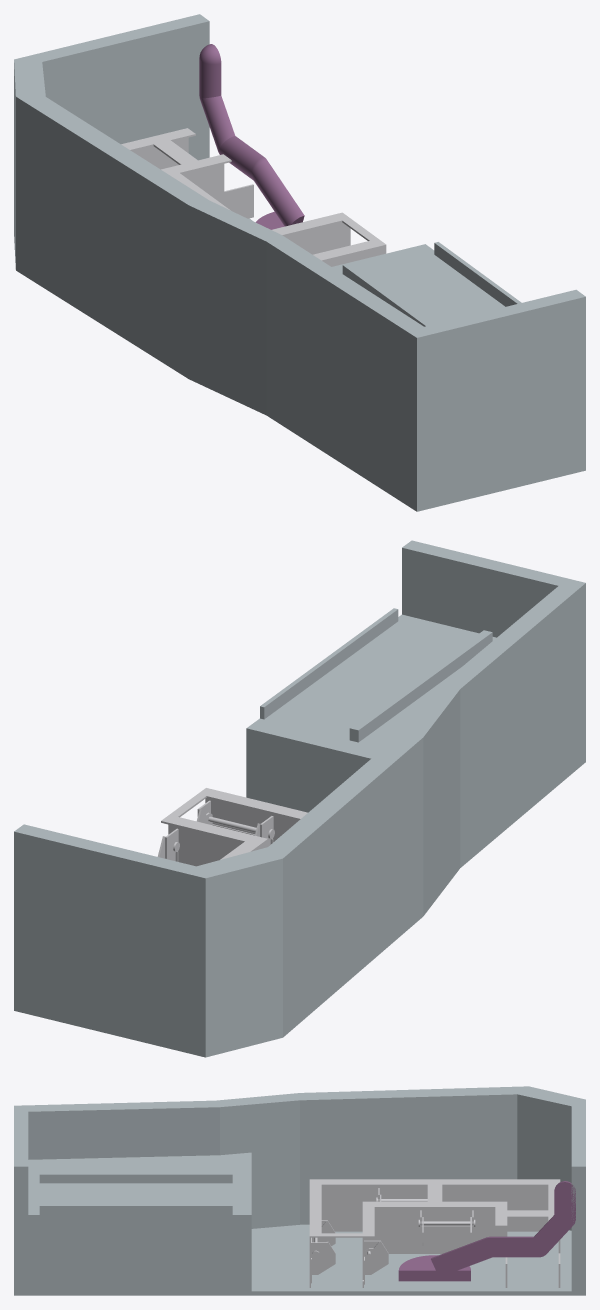
The model's file is nested_pan_section.glb.
3 renders of one model, top to bottom at view 1: azimuth 30°, elevation 25°; view 2: azimuth 150°, elevation 25°; view 3: azimuth 270°, elevation 25°, orthographic. The views are drawn at different scales.
Visible parts, largest first — view 1: nested_pan_section (×3); view 2: nested_pan_section (×2); view 3: nested_pan_section (×3).
Part boxes in pixels (x1,y1,x2,y2): nested_pan_section (×3): [14, 14, 585, 511]; nested_pan_section (×2): [14, 540, 585, 1057]; nested_pan_section (×3): [14, 1086, 585, 1295].
Bounding box in the file's own units: 0.158 × 0.118 × 0.4747.
